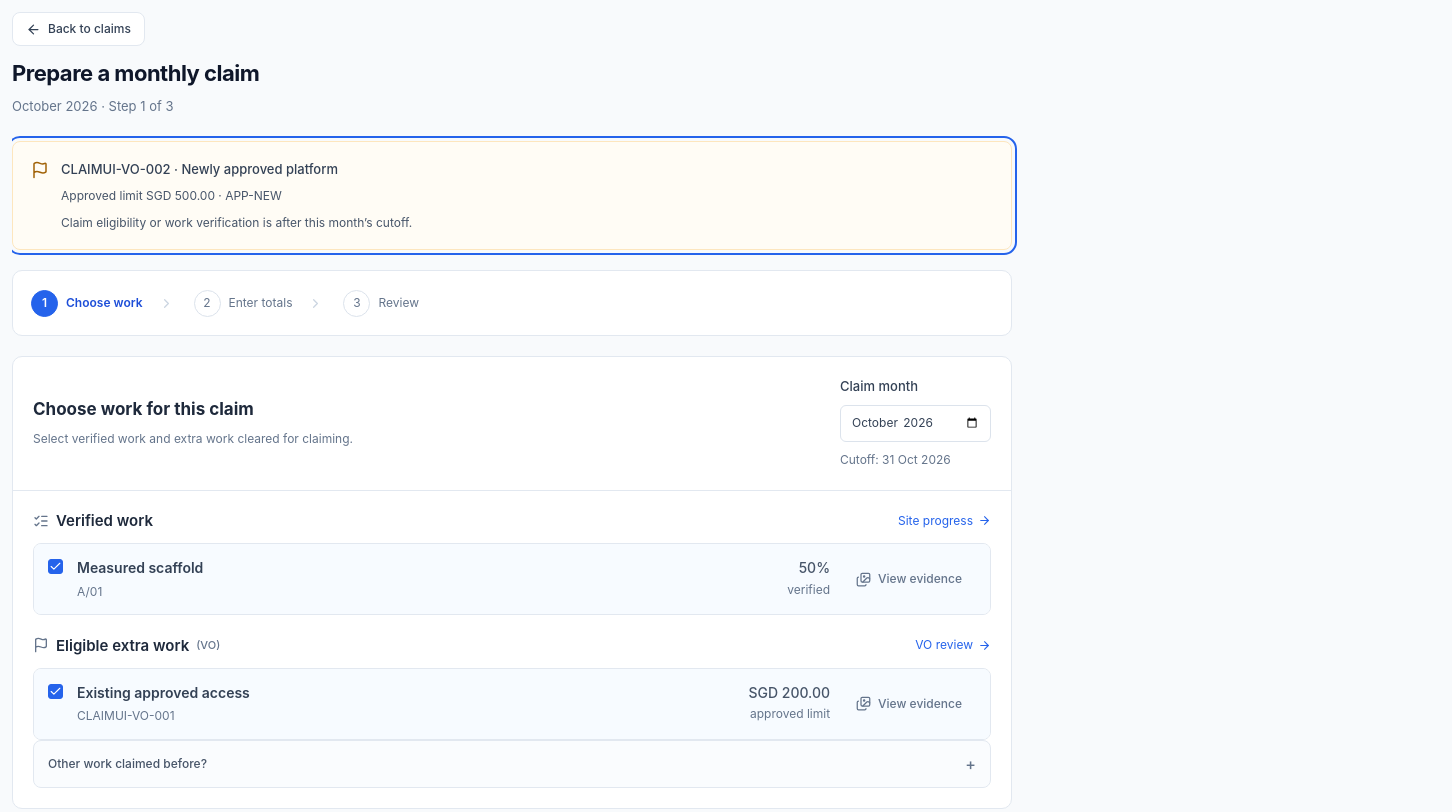
Test: approved VO handoff to monthly claims › explains a later eligibility check without misreporting the earlier price approval date
The width and height of the screenshot is (1452, 812).
Expected: the element named "Extra work from VO review" shows "Claim eligibility or work verification is after this month’s cutoff.", [61,215,412,230]
Expected: the button "Find this VO" is not shown
Replace the text in the field named "Claim period" with "2026-11" at (916, 423), box [840,405,991,442]
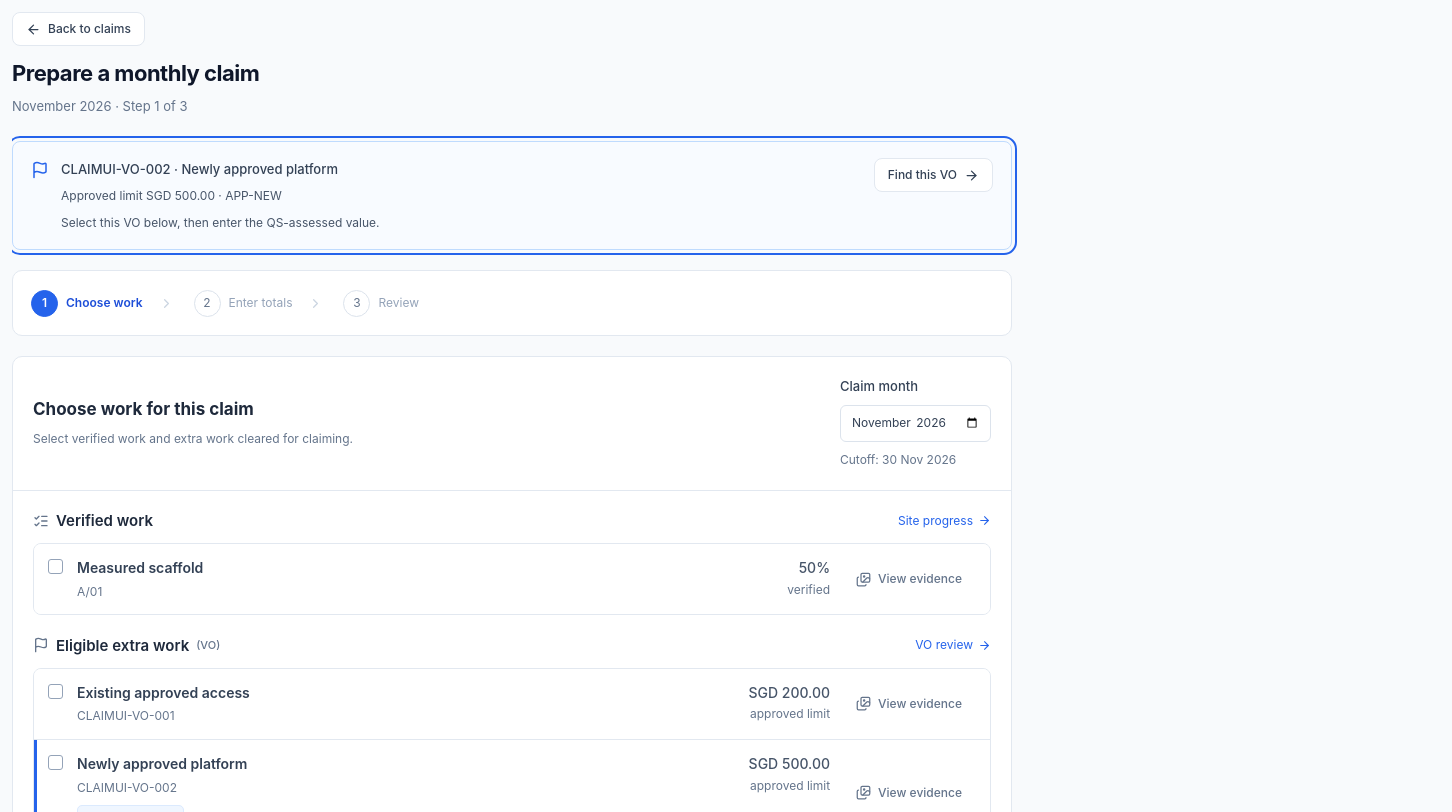
Expected: the button "Find this VO" is shown, [874,158,993,192]
